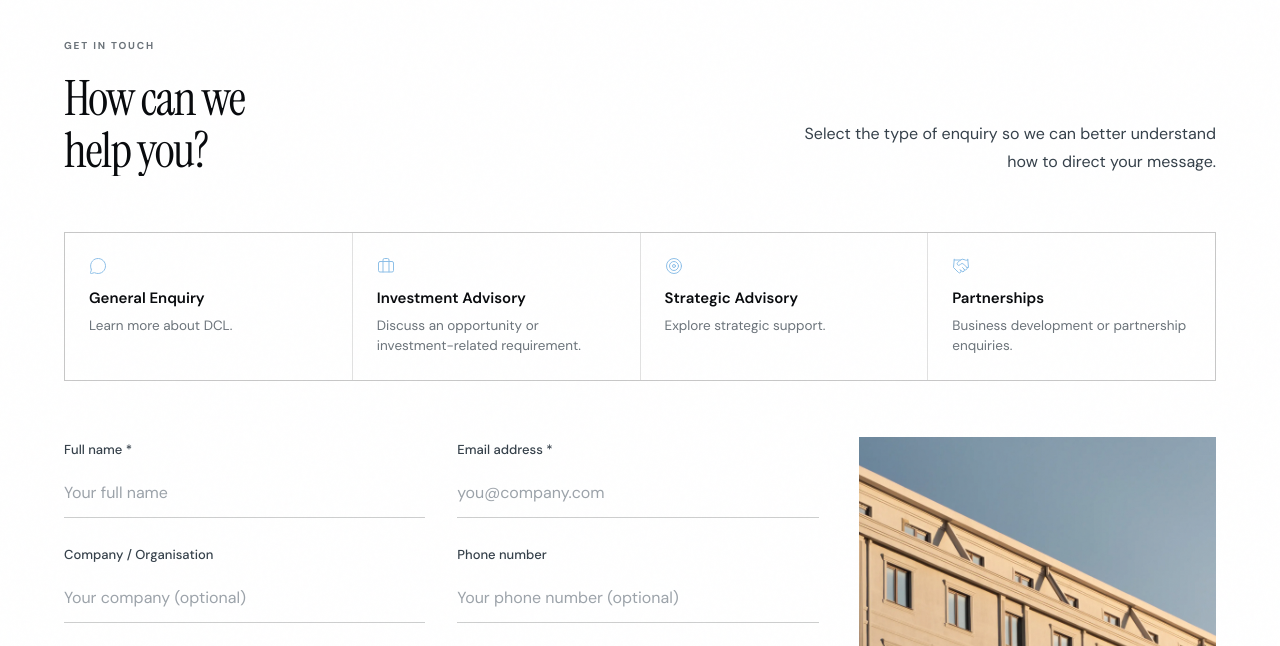
Test: HowCanWeHelp › rejects an invalid email address
The width and height of the screenshot is (1280, 646).
Step 1. Type "not-an-email" into the field labelled "Email address *" → (638, 493), box [457, 469, 819, 518]
(page scrolled)
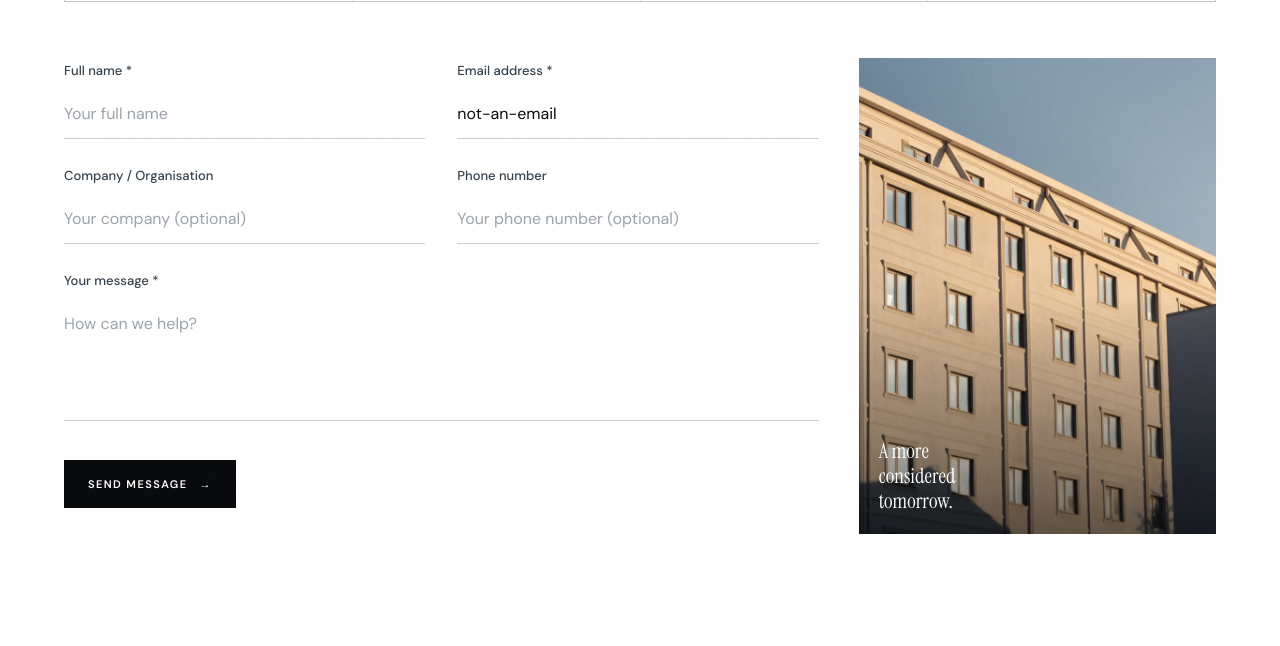
Step 2. Click the button with test id "button-contact-submit" → (150, 484), box [64, 460, 236, 508]
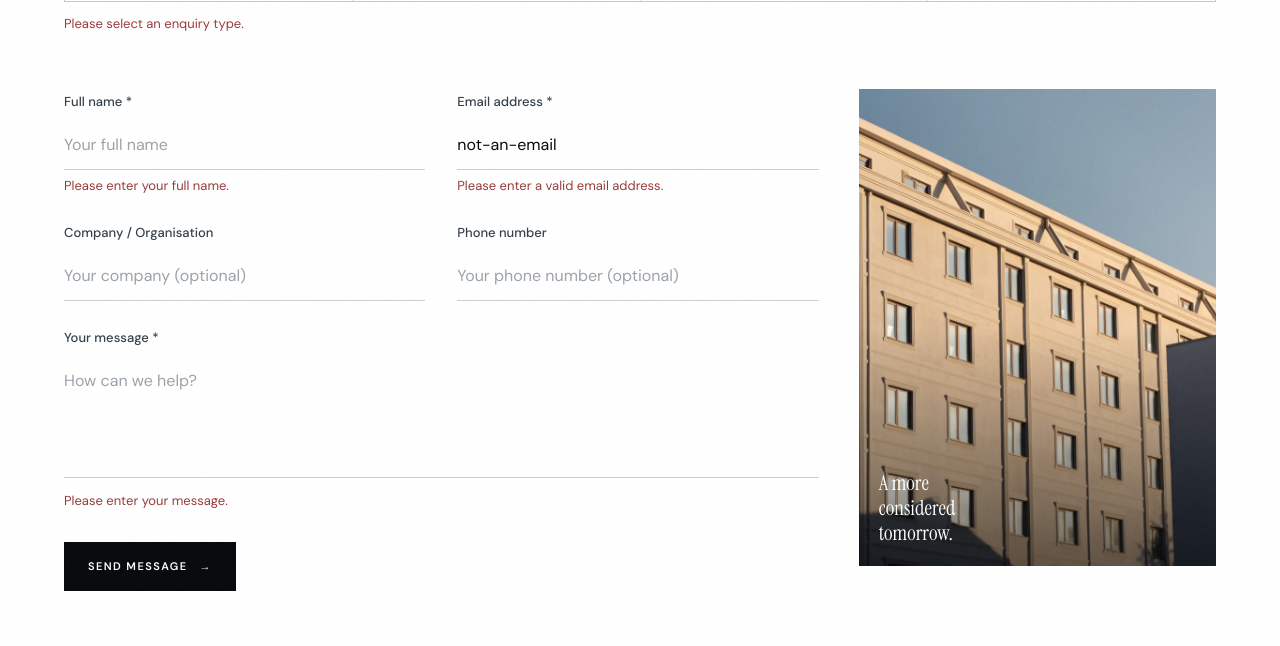
Now the message with test id "error-email" shows "valid email", box [457, 177, 663, 194]
